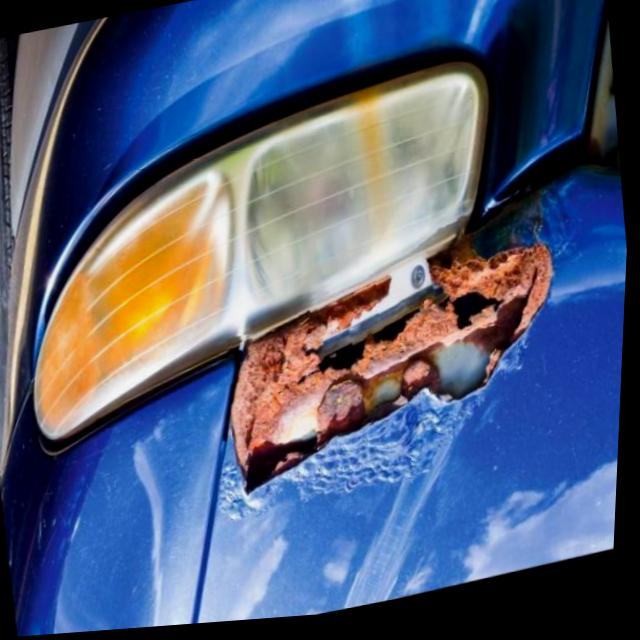Rust: (214, 230, 559, 523)
